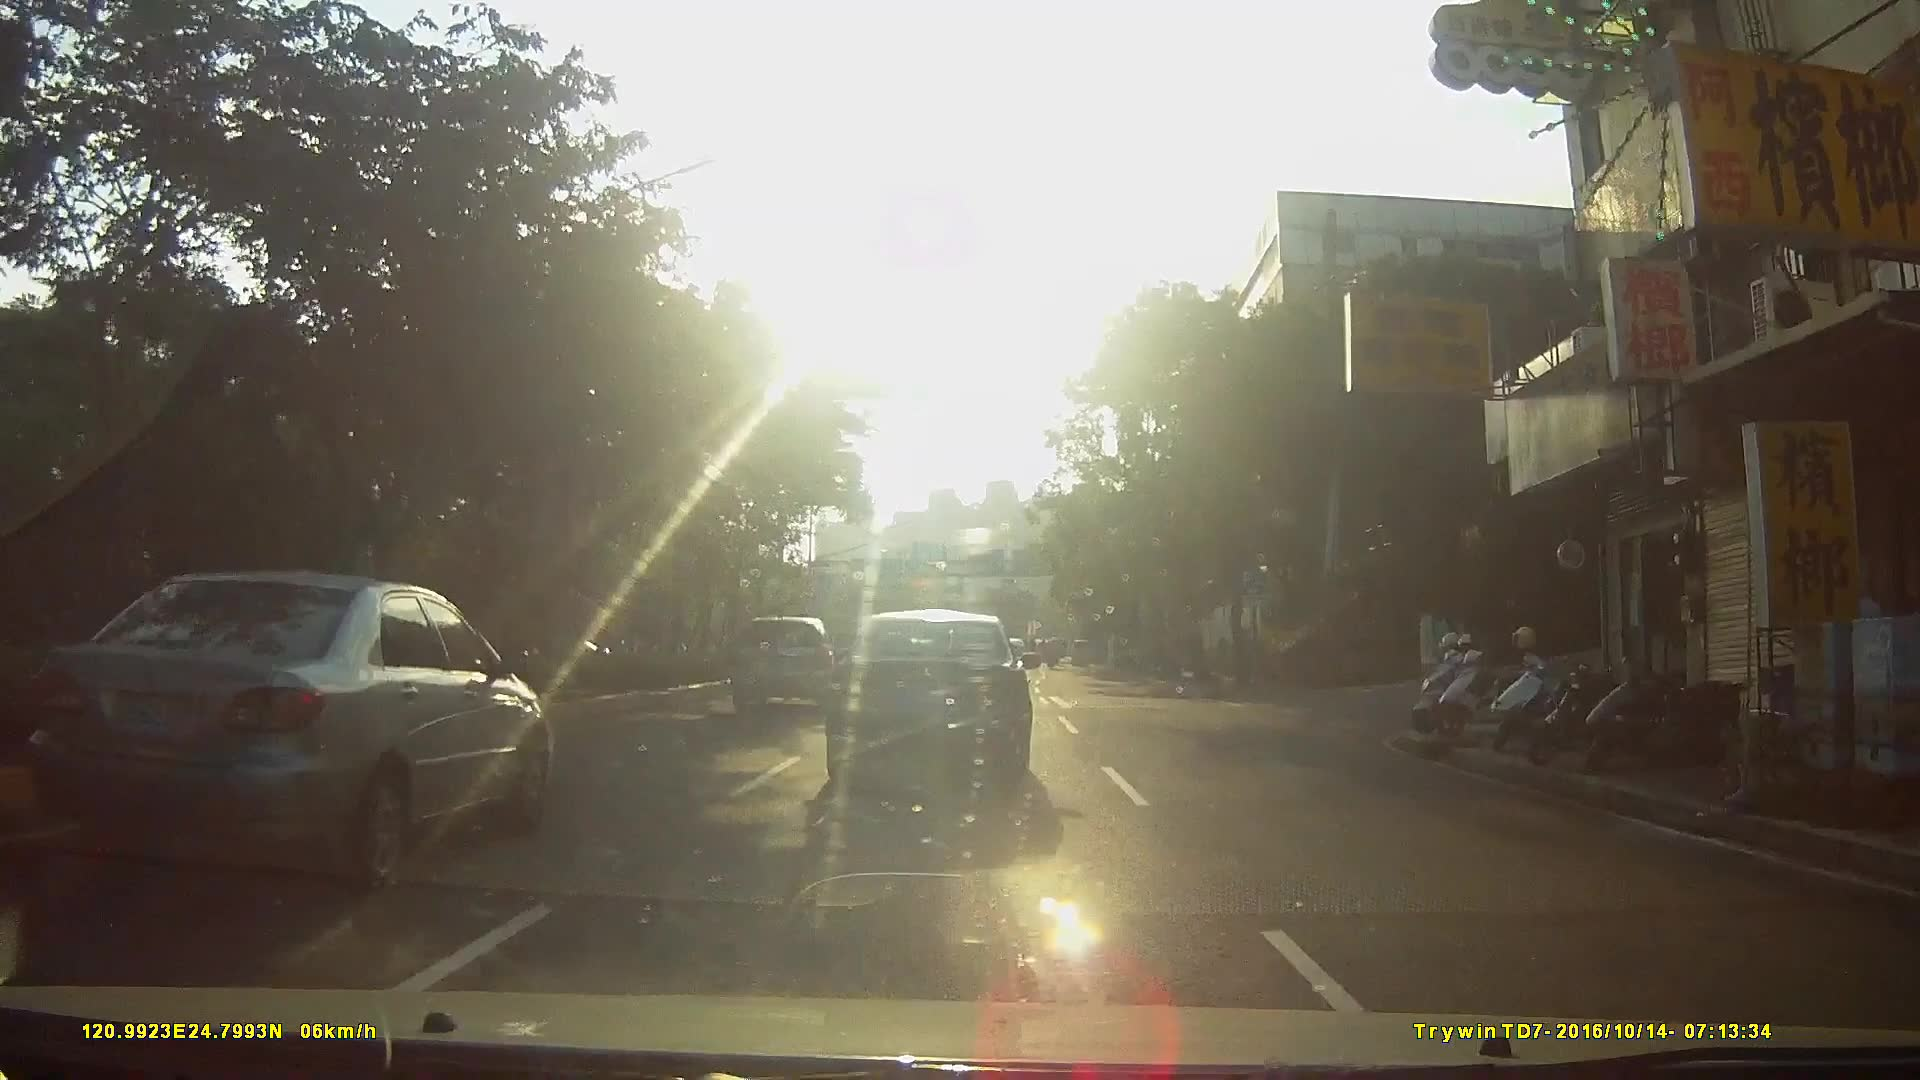vehicle: (9, 570, 564, 890), (831, 611, 1054, 803), (732, 615, 844, 708), (1068, 636, 1102, 665)
